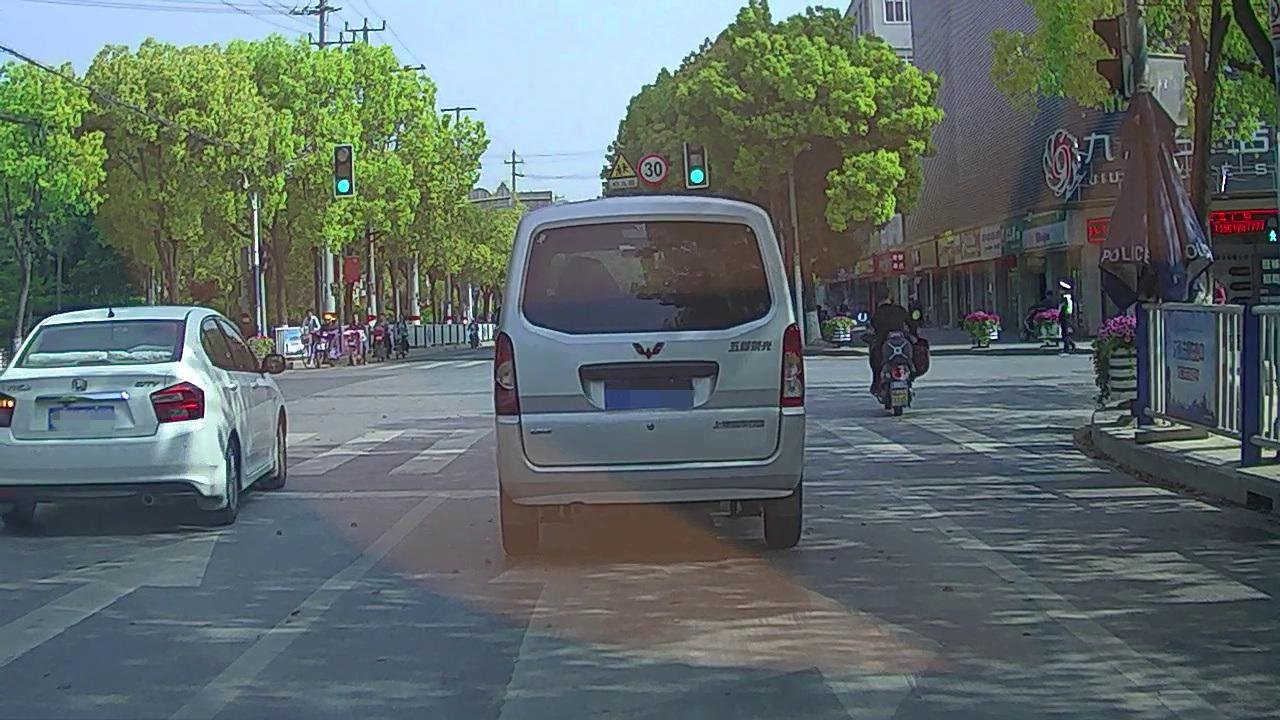traffic_light: (686, 138, 708, 186), (335, 146, 354, 195)
